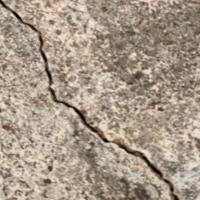crack: (0, 0, 177, 199)
